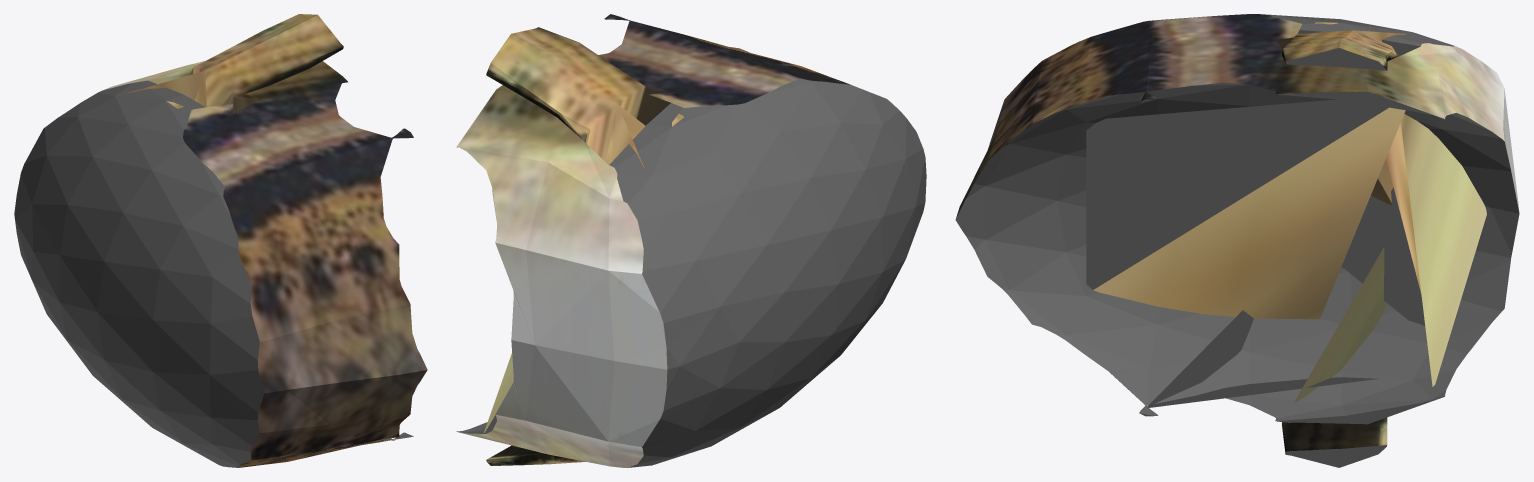
The picture shows the model from 3 angles, left to right: view 1: azimuth 30°, elevation 25°; view 2: azimuth 150°, elevation 25°; view 3: azimuth 270°, elevation 25°; orthographic projection. The views are drawn at different scales.
Parts seen in each view (by area): view 1: link_2_visual; view 2: link_2_visual; view 3: link_2_visual.
Part boxes in pixels (<box>): link_2_visual: <box>14,14,427,467</box>; link_2_visual: <box>456,14,926,467</box>; link_2_visual: <box>955,14,1519,467</box>.
Size of the model in its own units: 0.00175 by 0.00256 by 0.00312.
1 material, 1 textured.
